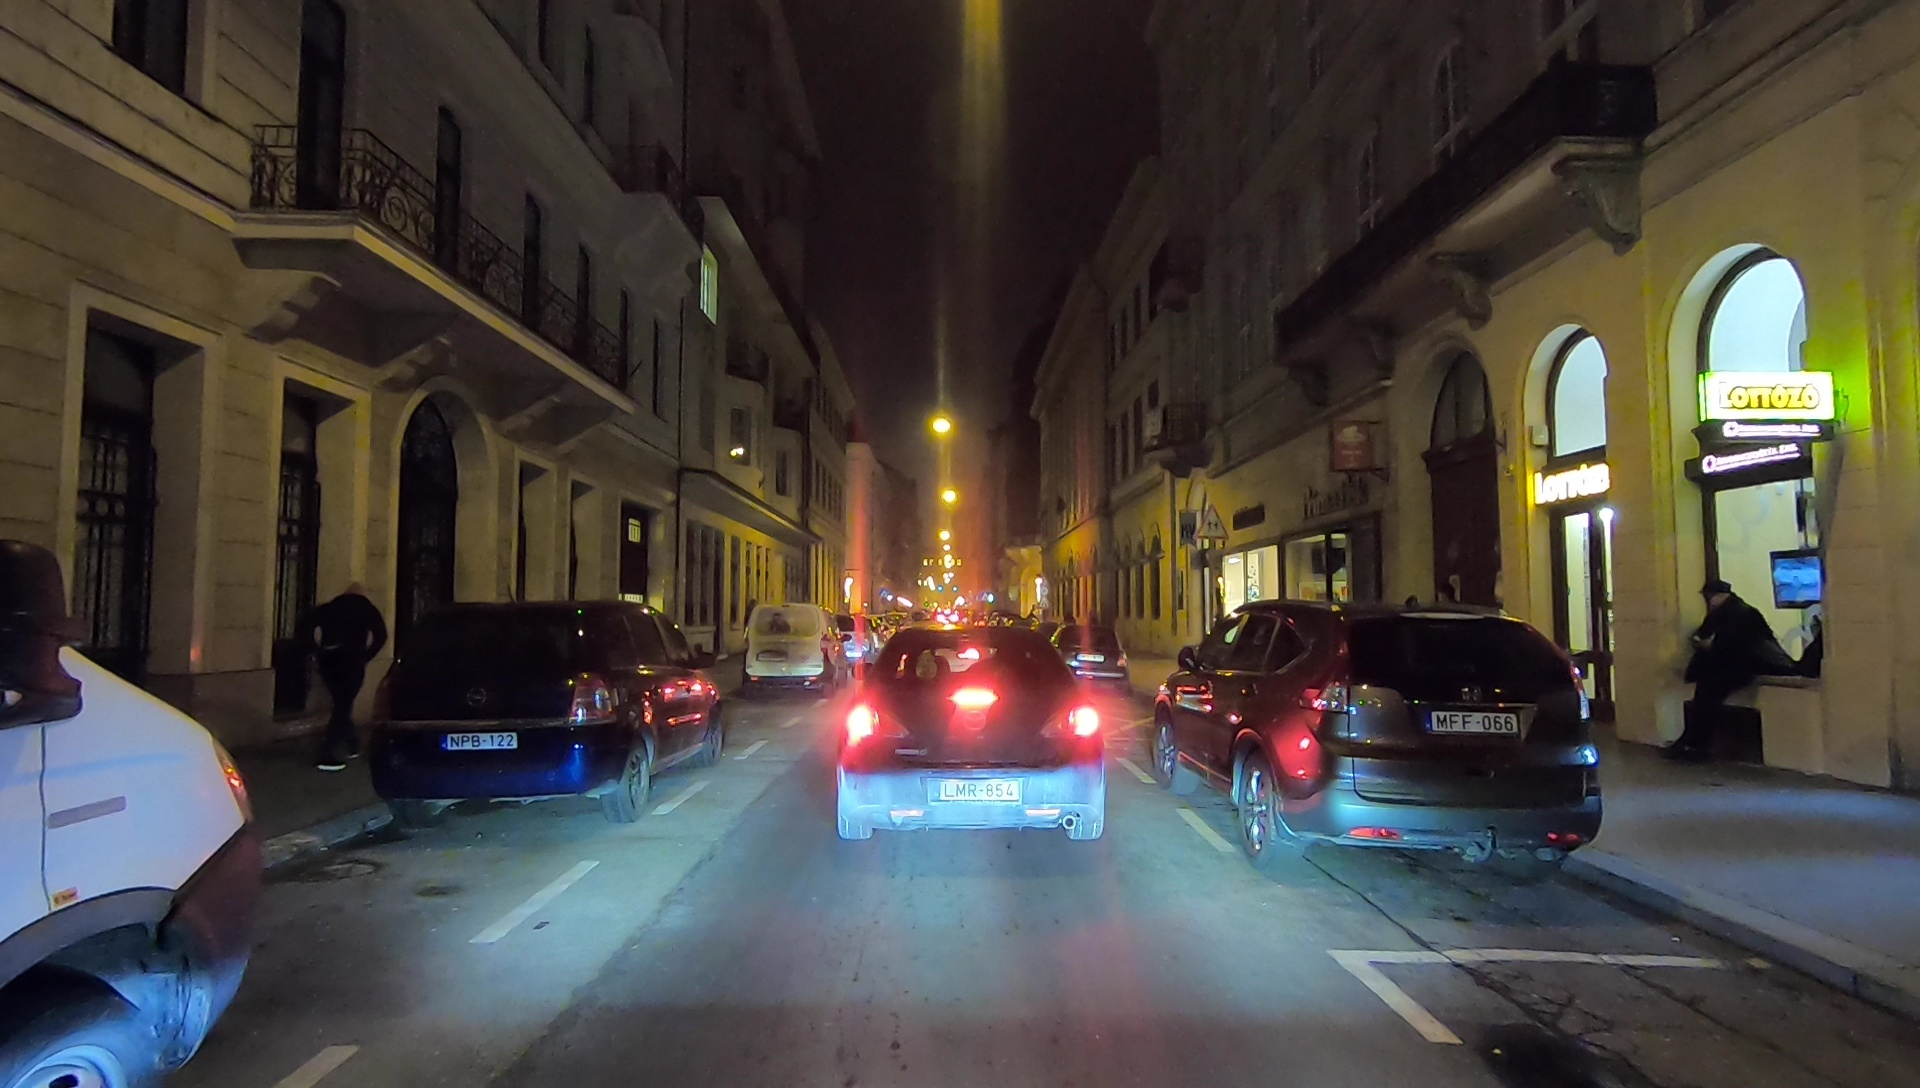person: (1680, 576, 1775, 763), (308, 580, 378, 774)
